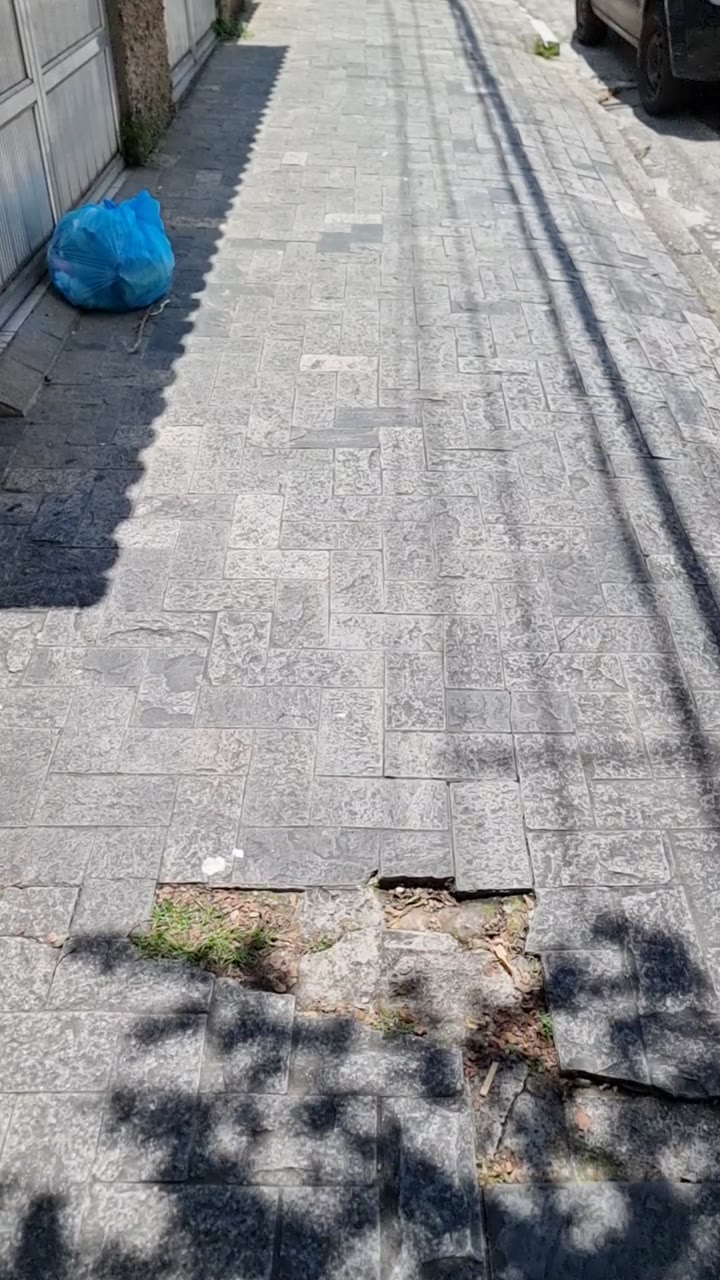desnivel: (144, 845, 562, 934)
obstaculo: (48, 191, 174, 312)
